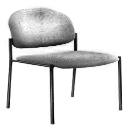chair_success: (2, 4, 128, 128)
